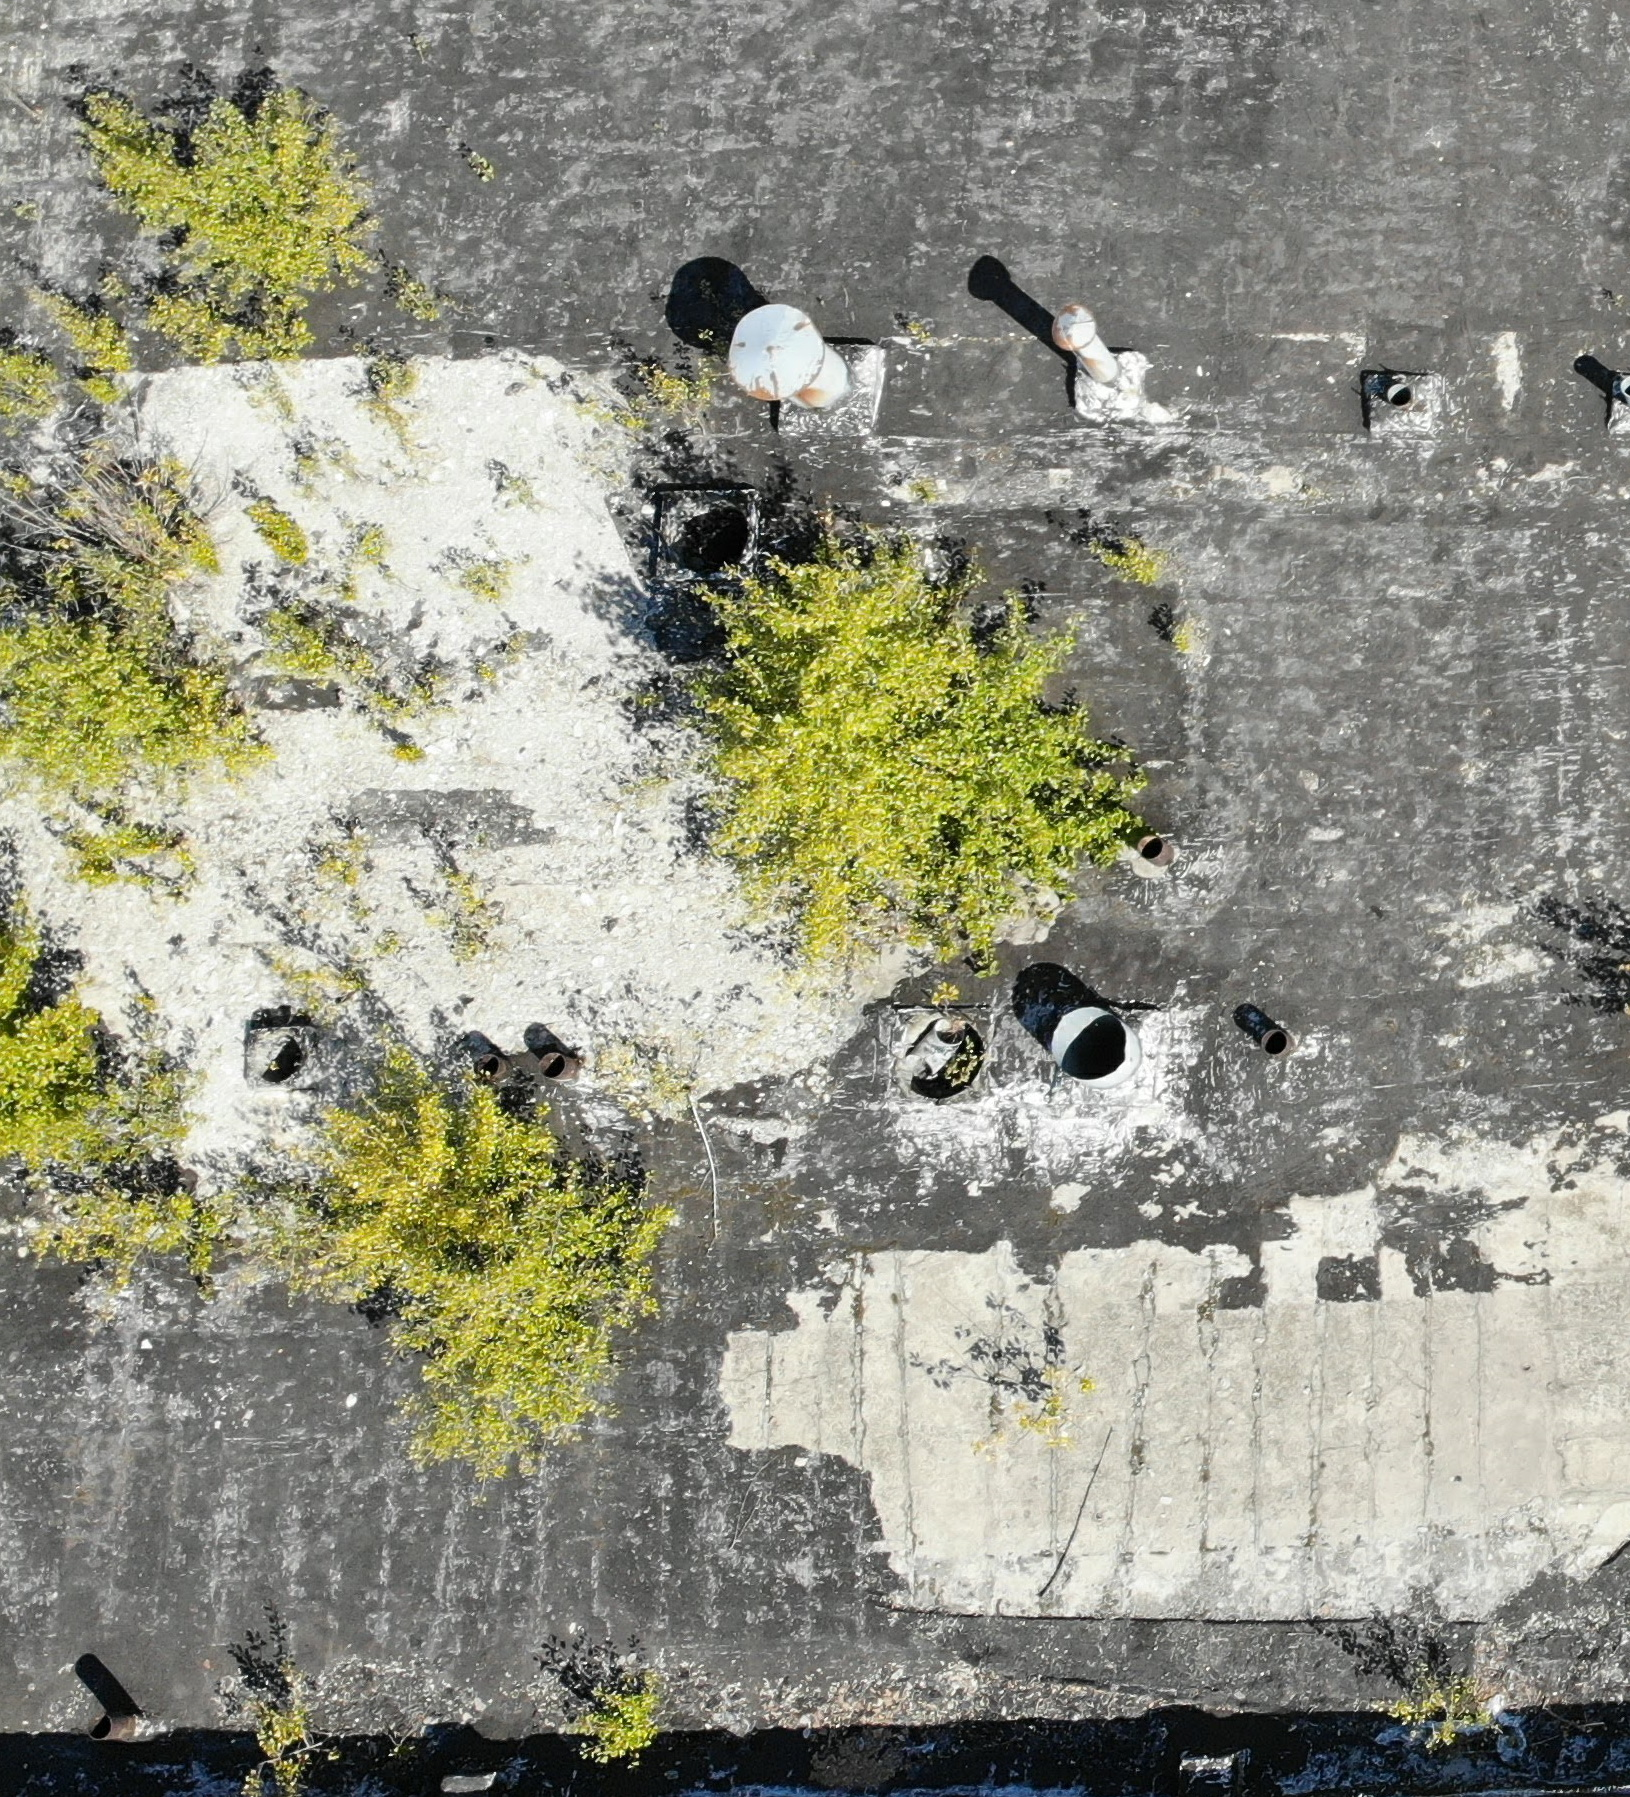tree: (636, 485, 1143, 1046), (279, 1050, 697, 1478), (30, 432, 291, 817), (103, 49, 417, 344), (27, 952, 240, 1291), (254, 524, 456, 753), (539, 1619, 697, 1767), (1376, 1640, 1524, 1788), (227, 1683, 359, 1797), (1015, 1334, 1121, 1457)
